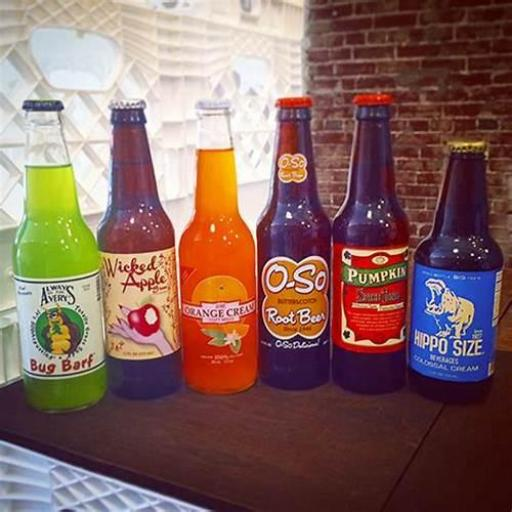glass bottle: (12, 98, 106, 416), (96, 96, 184, 402), (410, 139, 504, 406), (178, 98, 258, 398), (255, 94, 333, 392), (334, 93, 410, 394)
